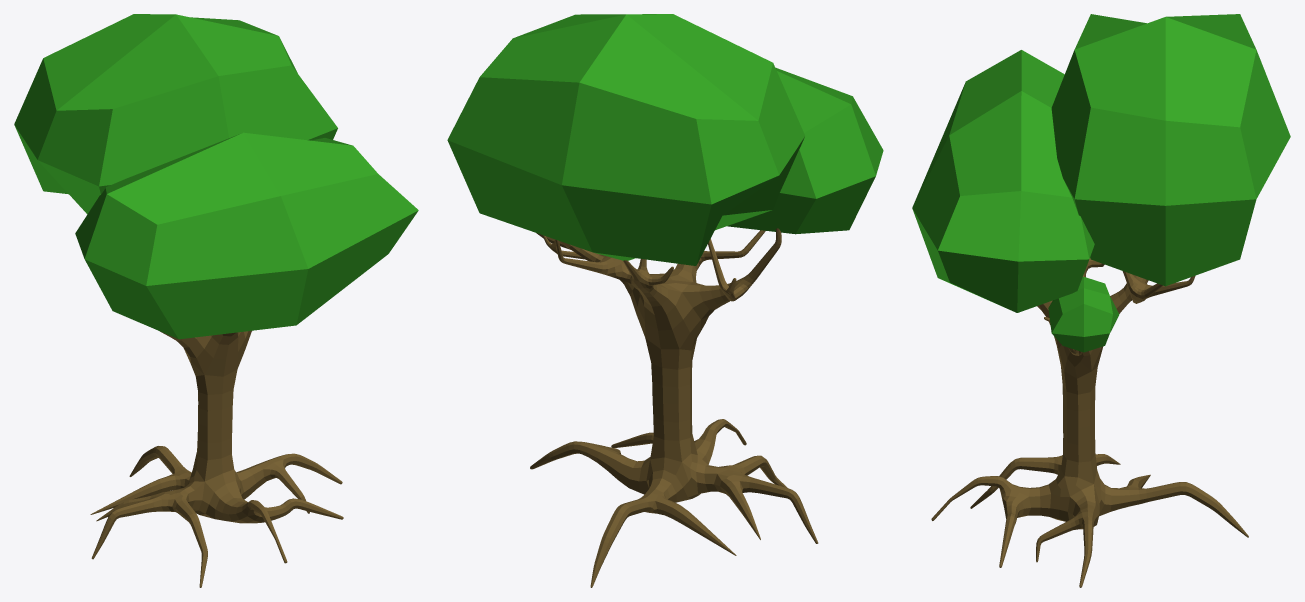
The model's file is SM_Prop_arbol (modelo 3).fbx.
The picture shows the model from 3 angles, left to right: view 1: azimuth 30°, elevation 25°; view 2: azimuth 150°, elevation 25°; view 3: azimuth 270°, elevation 25°; orthographic projection. The views are drawn at different scales.
Parts seen in each view (by area): view 1: tronco; view 2: tronco; view 3: tronco.
Part boxes in pixels (bbox=[...]): tronco: bbox=[14, 14, 418, 587]; tronco: bbox=[447, 14, 883, 587]; tronco: bbox=[912, 14, 1290, 587].
Bounding box in the file's own units: 873 × 1311 × 855.
Materials: 1 (1 with a texture image).
